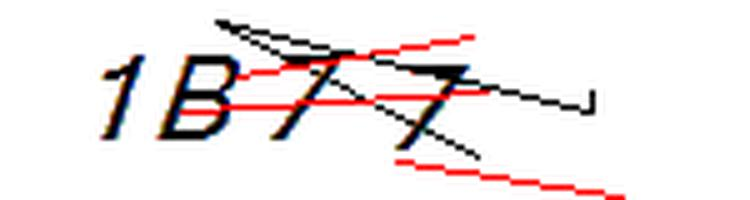1: (83, 47, 154, 149)
7: (265, 44, 361, 151), (382, 57, 484, 156)
B: (151, 46, 245, 146)
